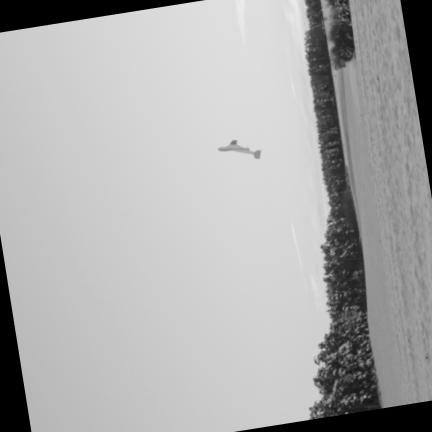Shahed: (219, 140, 260, 158)
